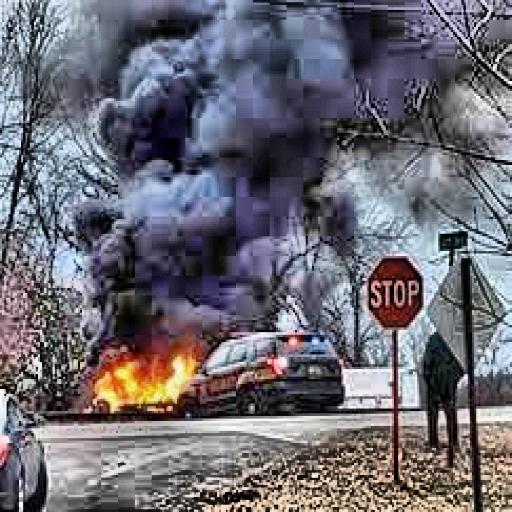fire: (80, 332, 211, 438)
